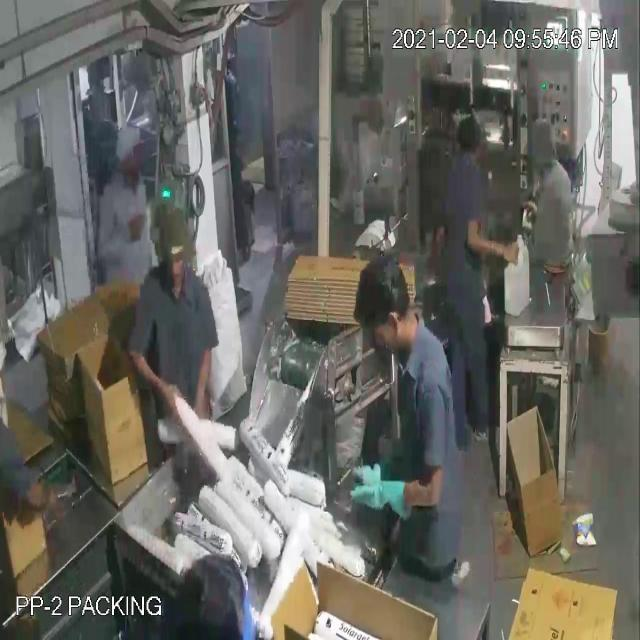No_Gloves: (40, 57, 490, 500)
